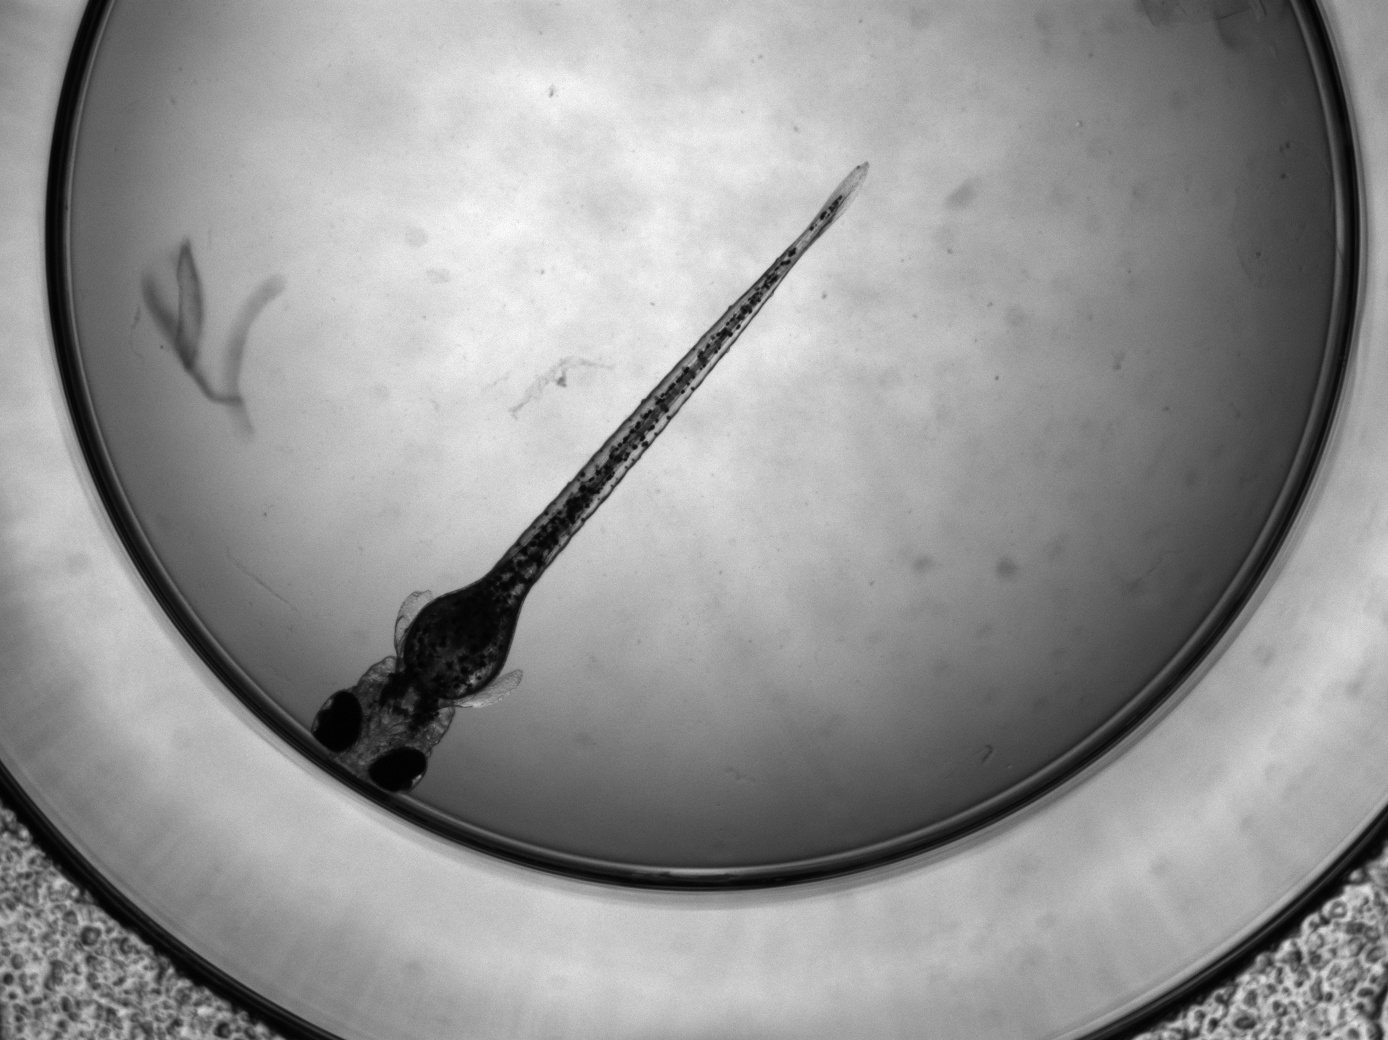debris: (133, 235, 282, 438)
embryo: (311, 162, 867, 794)
eye: (311, 690, 364, 752), (368, 747, 427, 794)
yolksac: (405, 586, 513, 700)
